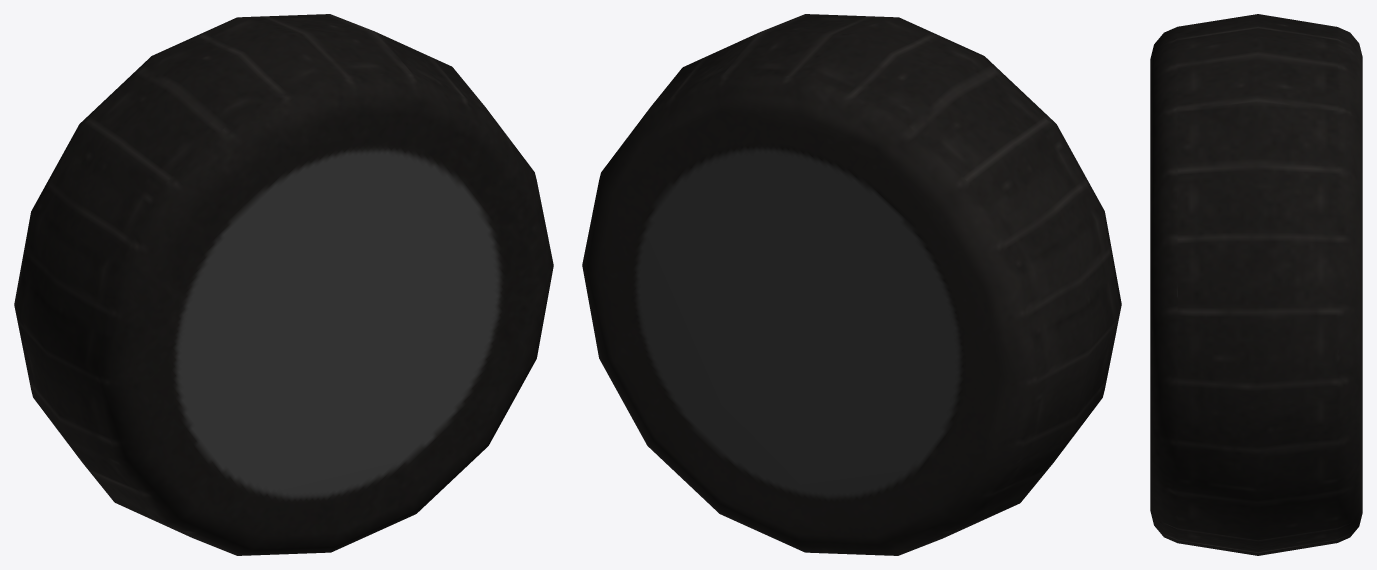
Rendered from SM_RaceCar_Wheel.fbx.
3 renders of one model, left to right at view 1: azimuth 30°, elevation 25°; view 2: azimuth 150°, elevation 25°; view 3: azimuth 270°, elevation 25°, orthographic.
Visible parts, largest first — view 1: lowpoly_wheel_Mesh; view 2: lowpoly_wheel_Mesh; view 3: lowpoly_wheel_Mesh.
Boxes of the visible parts, <box> form: lowpoly_wheel_Mesh: <box>14,14,553,555</box>; lowpoly_wheel_Mesh: <box>582,14,1121,555</box>; lowpoly_wheel_Mesh: <box>1150,14,1362,555</box>.
Bounding box in the file's own units: 102 × 40 × 102.
1 material, 1 textured.
